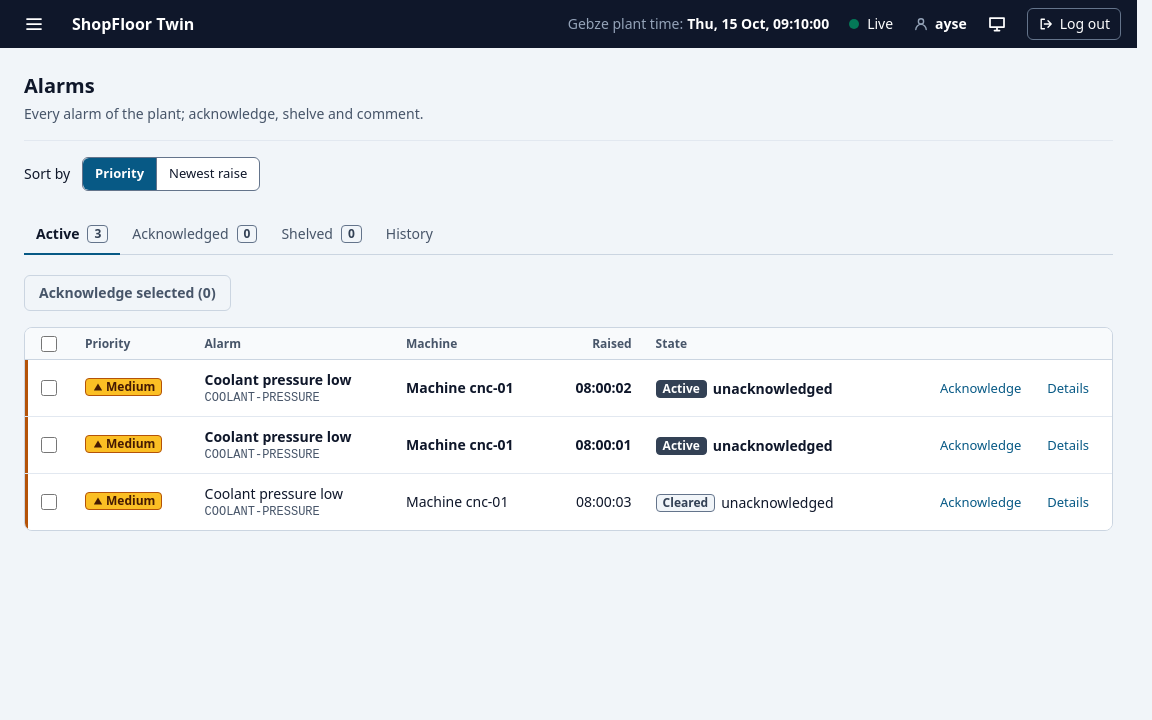
it: alarm list › acknowledges the selected alarms in one bulk request
What coordinates should you click on to do the following:
click the checkbox named "Select Coolant pressure low, Machine cnc-01" in the row of "08:00:01"
I would click on:
 (49, 444)
Its box is [41,436,57,452].
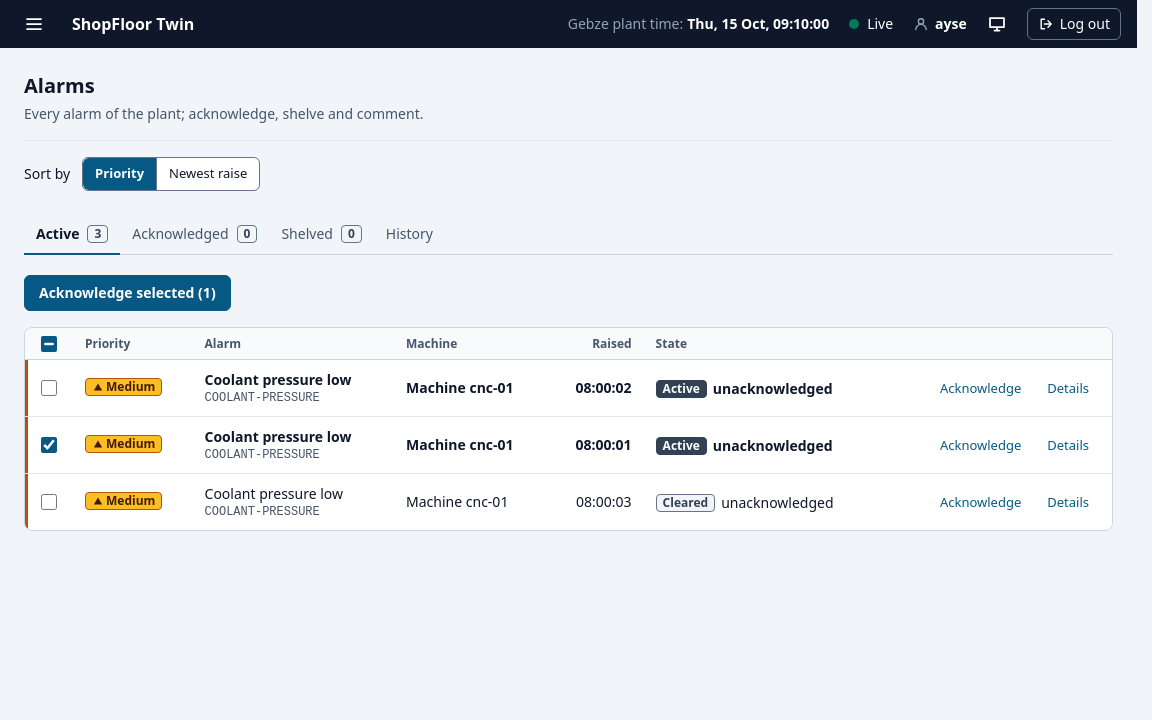
What coordinates should you click on to do the following:
click the checkbox named "Select Coolant pressure low, Machine cnc-01" in the row of "08:00:03"
I would click on:
 (49, 502)
Its box is [41,494,57,510].
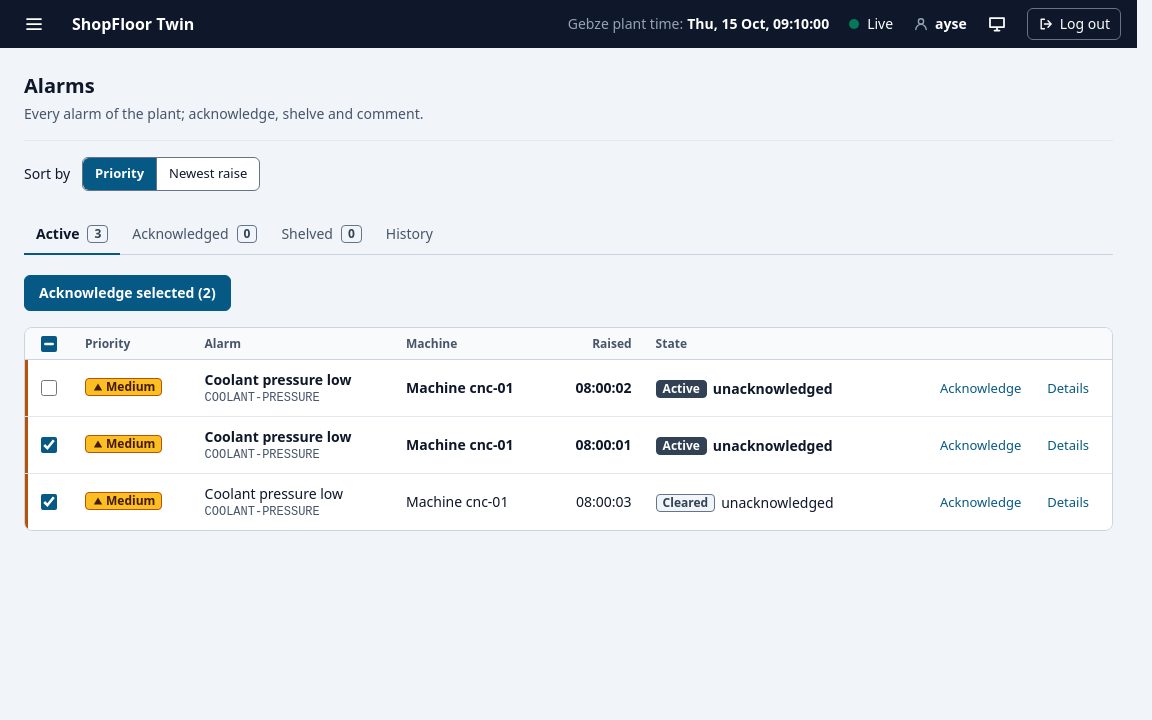
Now the button with test id "ack-selected" shows "(2)"
What coordinates should you click on to do the following:
click the button with test id "ack-selected"
I would click on:
 (127, 293)
Its box is [24,275,231,311].
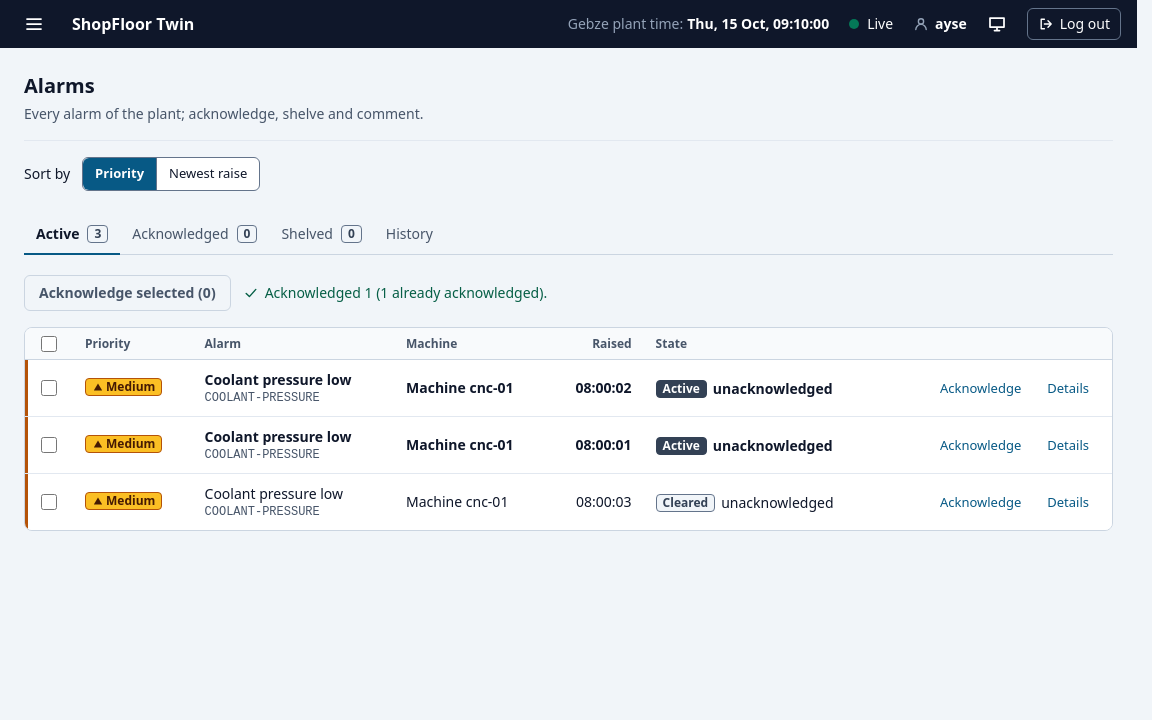
Now the message with test id "alarm-list-message" reads "Acknowledged 1 (1 already acknowledged).", box [265,283,547,302]
What coordinates should you click on to do the following:
click the checkbox with test id "select-all"
I would click on:
 (49, 344)
Its box is [41,336,57,352].
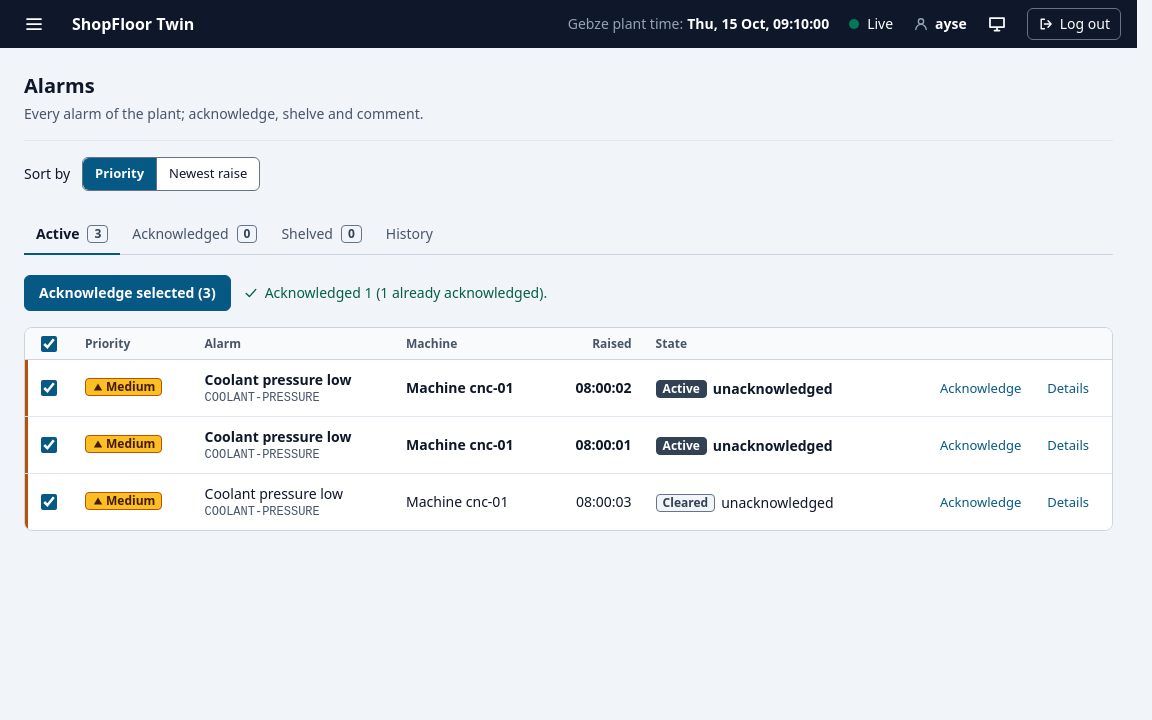
Now the button with test id "ack-selected" shows "(3)", box [24,275,231,311]
What coordinates should you click on to do the following:
click the checkbox with test id "select-all"
I would click on:
 (49, 344)
Its box is [41,336,57,352].
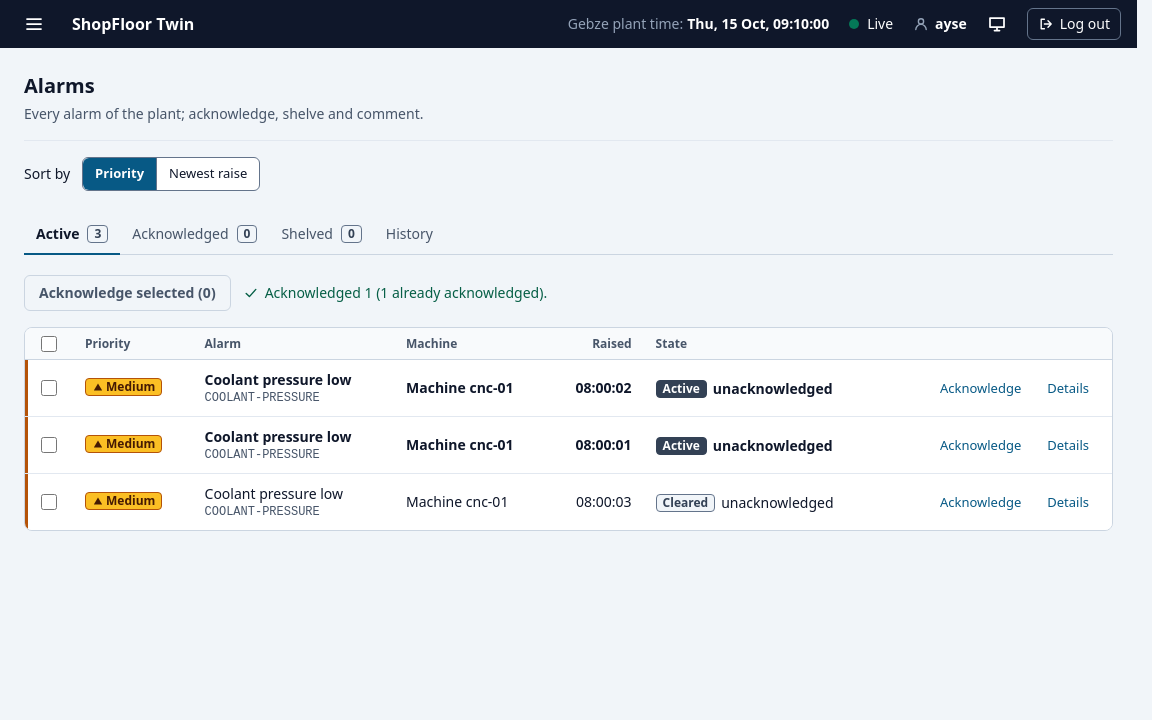
Now the button with test id "ack-selected" shows "(0)", box [24,275,231,311]
